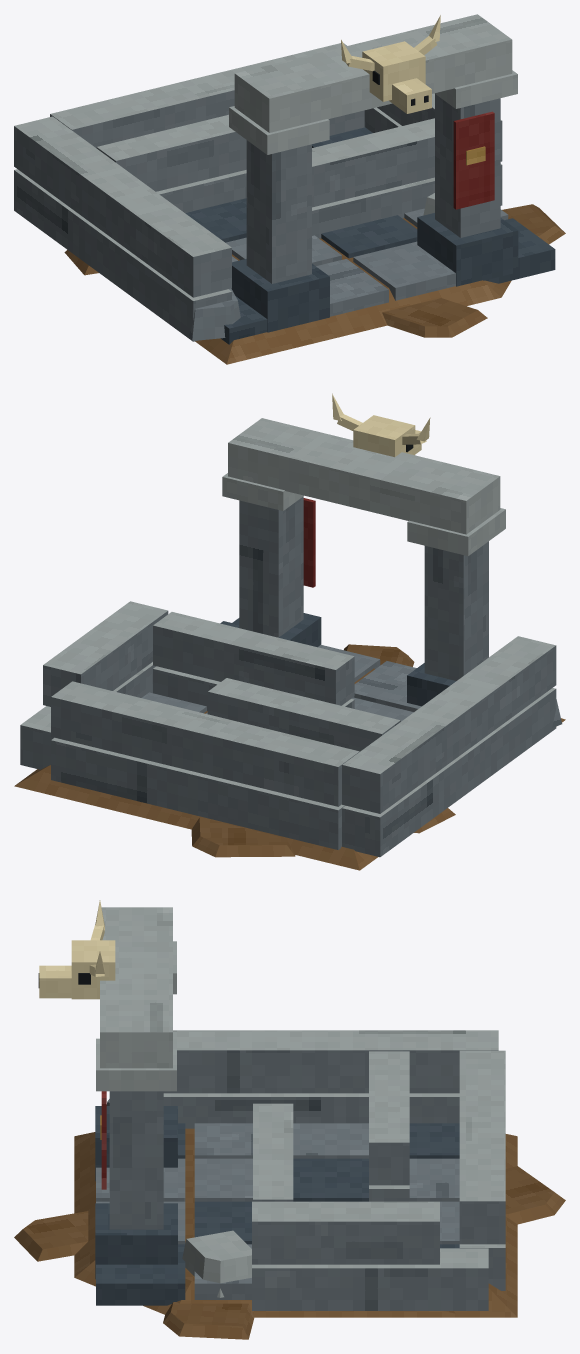
Rendered from minotaur_lair_v2.glb.
3 views of the same model, one above another, from view 1: azimuth 30°, elevation 25°; view 2: azimuth 150°, elevation 25°; view 3: azimuth 270°, elevation 25° (orthographic). The views are drawn at different scales.
Visible parts, largest first — view 1: Model; view 2: Model; view 3: Model.
Part boxes in pixels (box(x1,y1,x2,y2)): Model: box(14, 14, 565, 364); Model: box(14, 393, 565, 870); Model: box(14, 900, 565, 1339).
Bounding box in the file's own units: 1.25 × 0.8294 × 1.37.
Materials: 1 (1 with a texture image).
